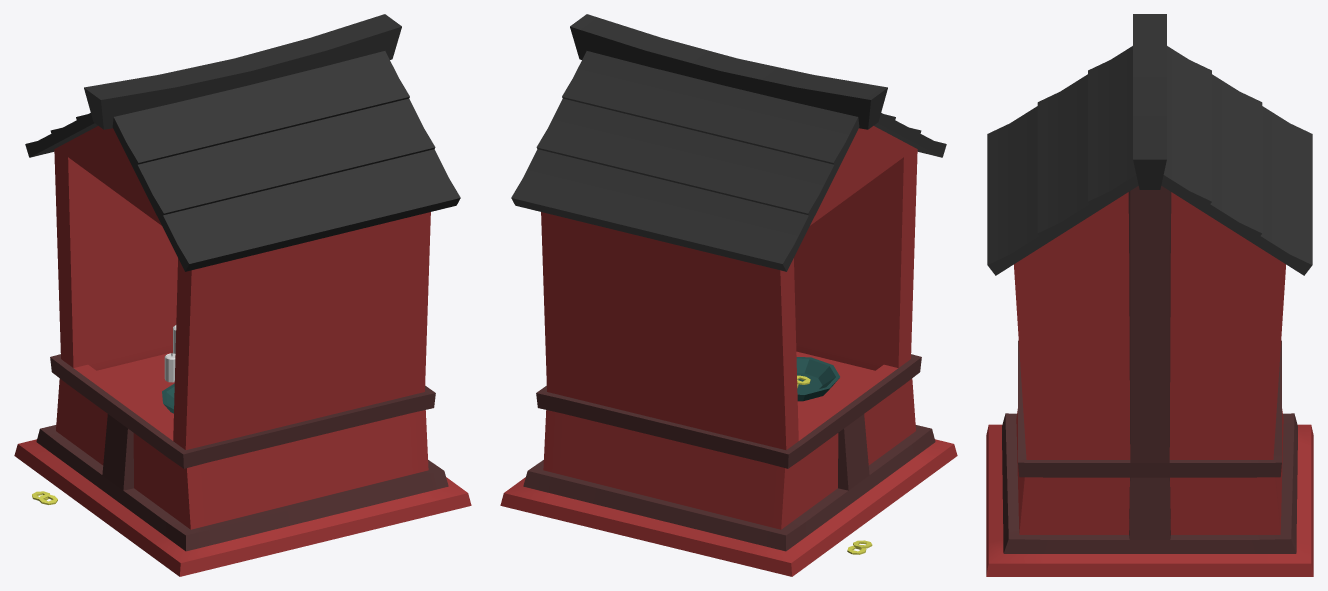
File: shrine.fbx
3 renders of one model, left to right at view 1: azimuth 30°, elevation 25°; view 2: azimuth 150°, elevation 25°; view 3: azimuth 270°, elevation 25°, orthographic.
Parts seen in each view (by area): view 1: Shrine; view 2: Shrine; view 3: Shrine.
Boxes of the visible parts, x1,y1,x2,y2 form: Shrine: (14, 14, 471, 576); Shrine: (500, 14, 957, 576); Shrine: (986, 14, 1313, 576).
Size of the model in its own units: 0.0135 by 0.017 by 0.012.
